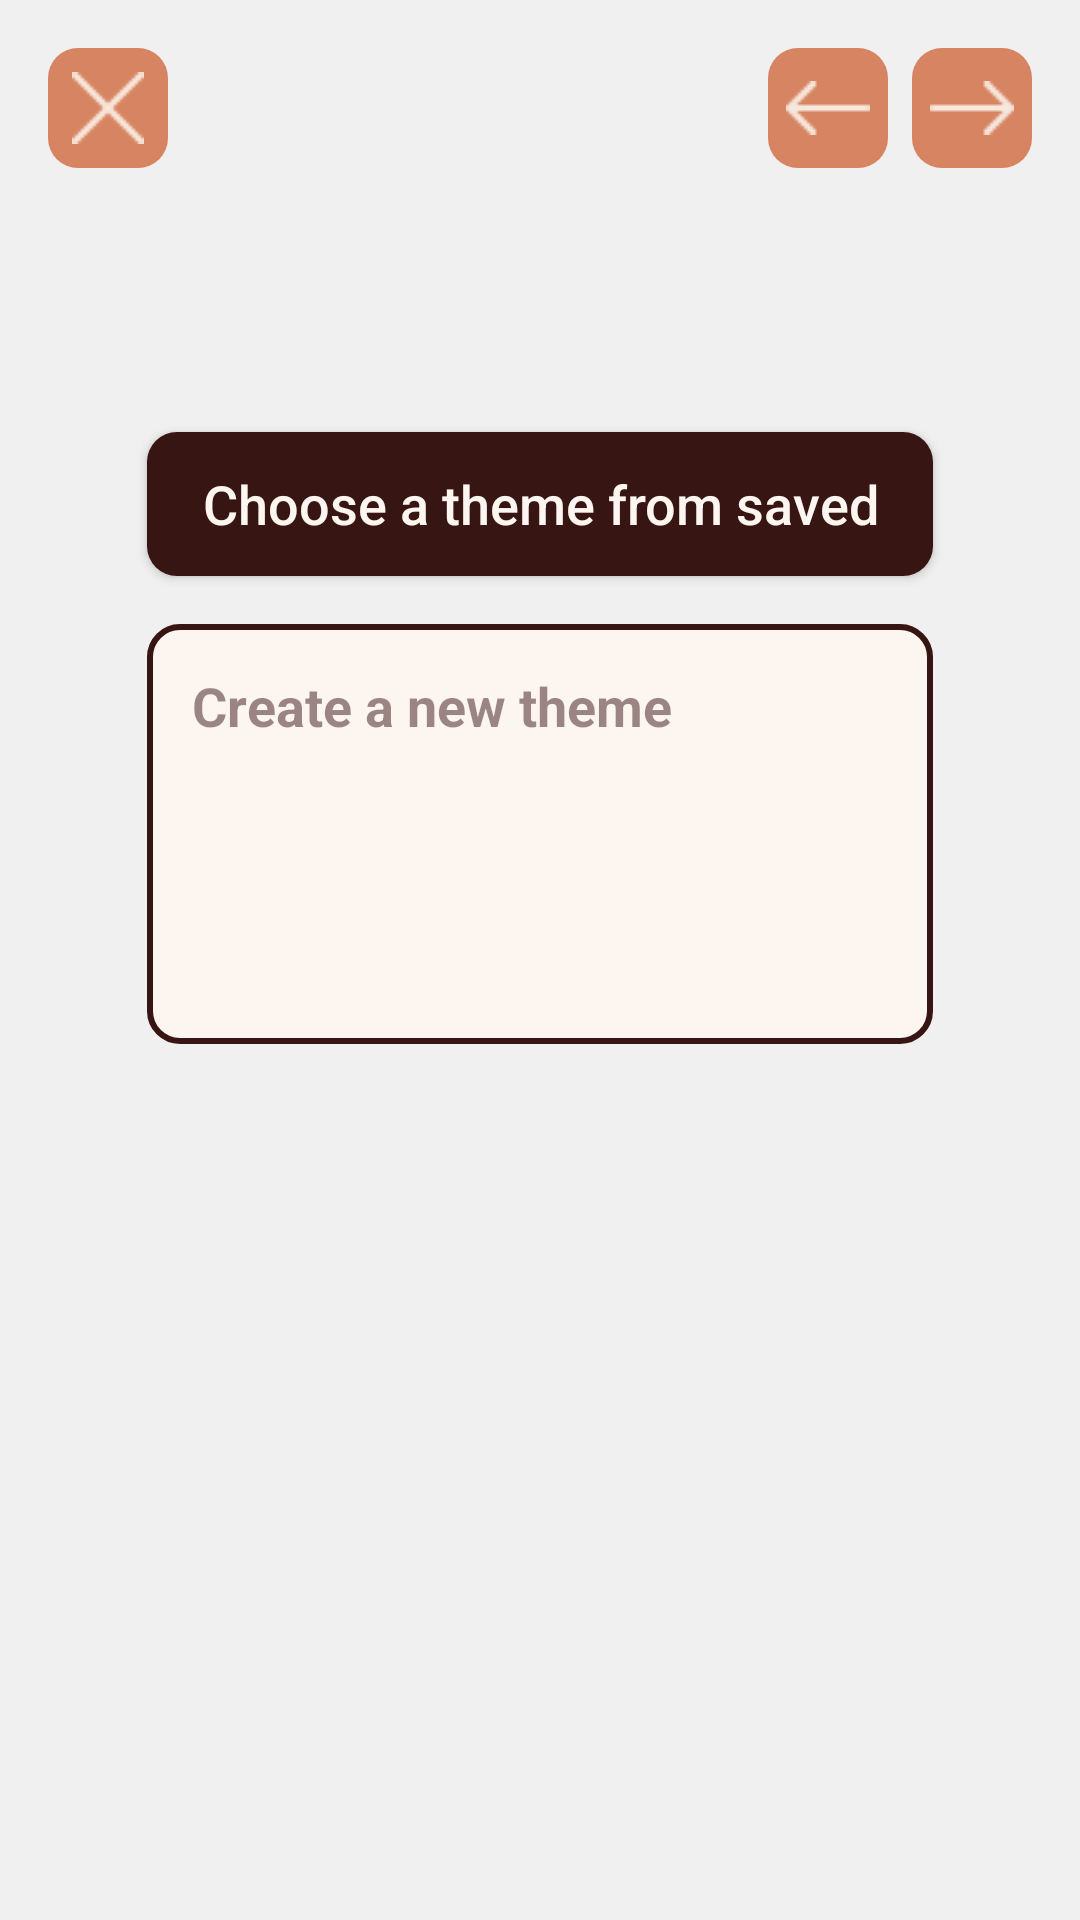

Icons on this 1080 × 1920 Android screen, each with the point to tap as point (x, y):
close: point (108, 108)
left arrow: point (828, 108)
right arrow: point (972, 108)
